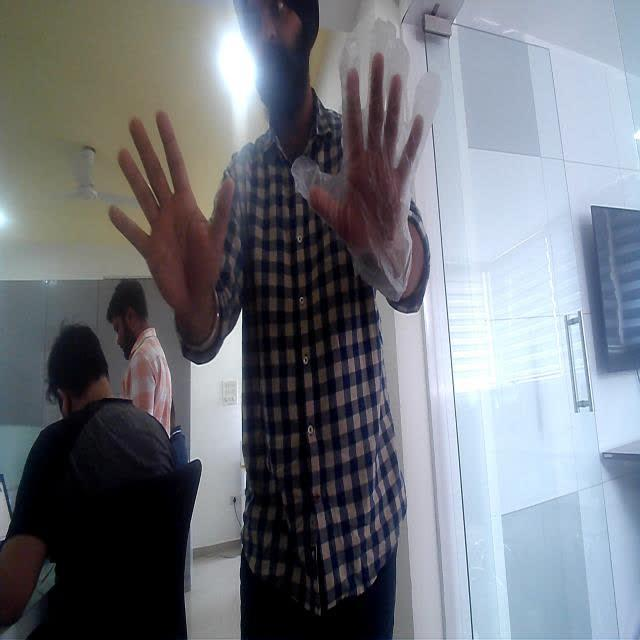with_gloves: (302, 19, 430, 301)
without_gloves: (82, 104, 246, 334)
